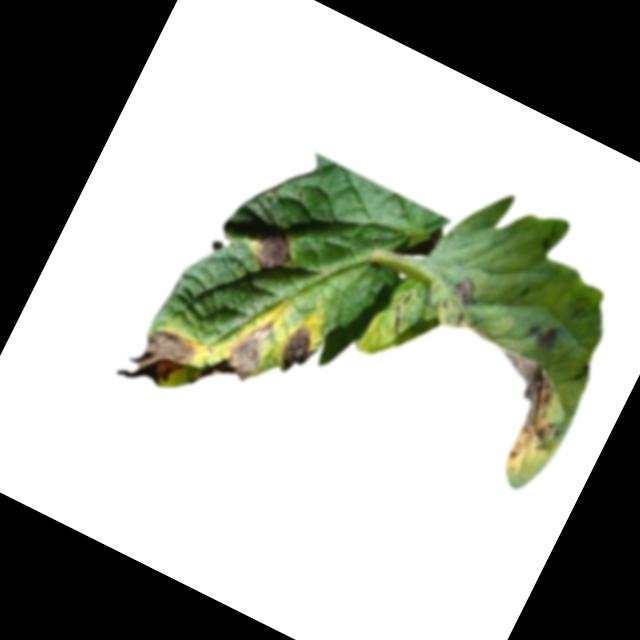Early_blight: (456, 342, 585, 481), (115, 318, 201, 404), (201, 305, 278, 400), (272, 319, 322, 381), (250, 227, 296, 275), (524, 317, 563, 354), (450, 276, 480, 308)
